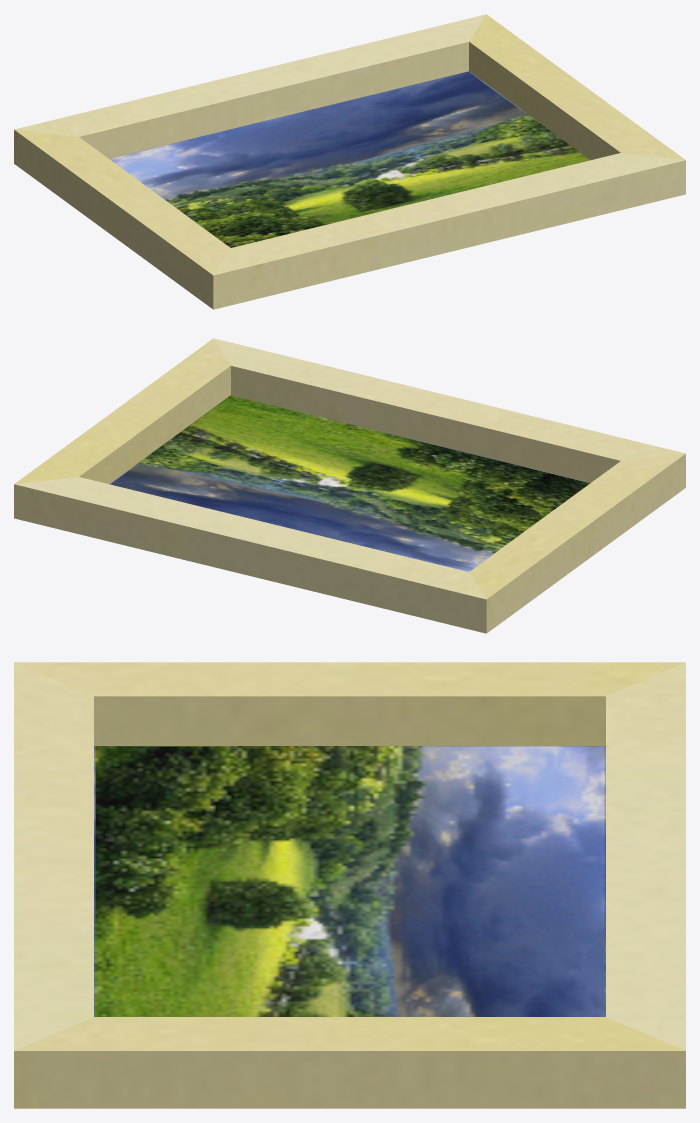
Rendered from frame2.FBX.
3 renders of one model, top to bottom at view 1: azimuth 30°, elevation 25°; view 2: azimuth 150°, elevation 25°; view 3: azimuth 270°, elevation 25°, orthographic. The views are drawn at different scales.
Parts seen in each view (by area): view 1: Box001, Object001; view 2: Box001, Object001; view 3: Box001, Object001.
Part boxes in pixels (x1,y1,x2,y2): Box001: (14,14,685,309); Object001: (109,71,590,247); Box001: (14,338,685,633); Object001: (109,395,590,571); Box001: (14,662,685,1108); Object001: (94,746,605,1016).
Size of the model in its own units: 73.08 by 5.05 by 53.42.
Materials: 3 (2 with a texture image).
